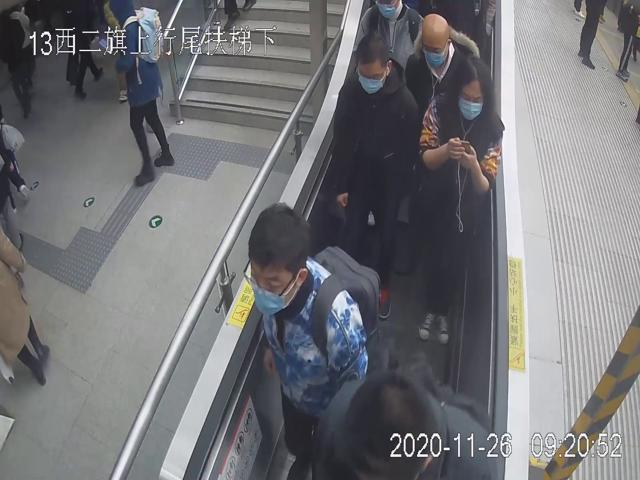person: (243, 200, 382, 459), (332, 32, 419, 337), (417, 55, 508, 345), (403, 12, 482, 114)
